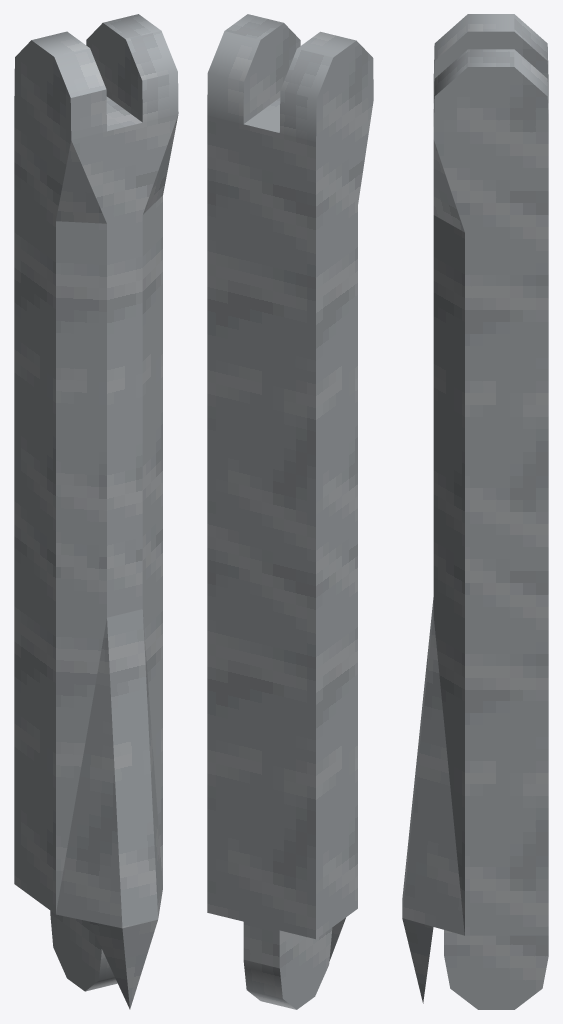
Rendered from upper.obj.
The picture shows the model from 3 angles, left to right: view 1: azimuth 30°, elevation 25°; view 2: azimuth 150°, elevation 25°; view 3: azimuth 270°, elevation 25°; orthographic projection.
Parts seen in each view (by area): view 1: Mesh1 Model; view 2: Mesh1 Model; view 3: Mesh1 Model.
Part boxes in pixels (x1,y1,x2,y2): Mesh1 Model: (14,14,178,1009); Mesh1 Model: (207,14,373,1009); Mesh1 Model: (402,14,548,1009).
Bounding box in the file's own units: 0.06 × 0.5078 × 0.07.
1 material, 1 textured.
